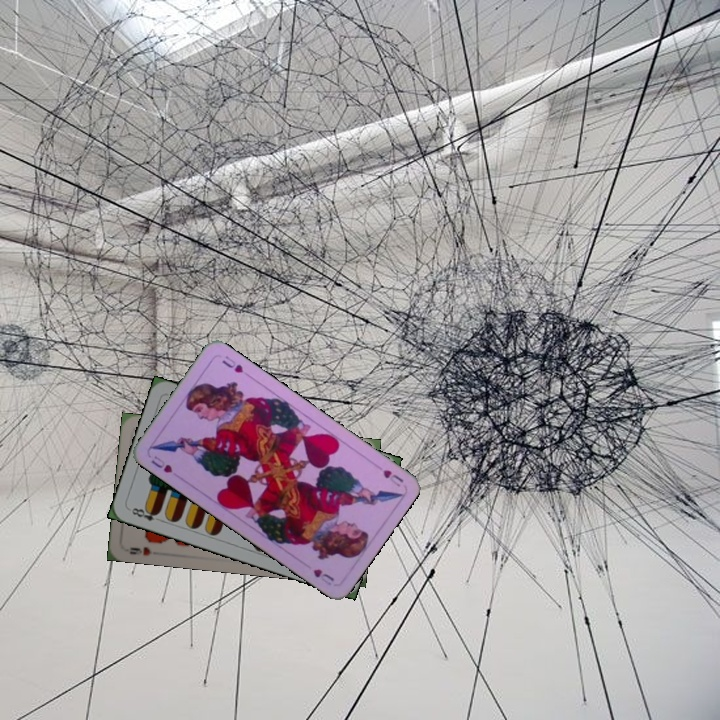E8: (128, 504, 165, 524)
H9: (126, 543, 154, 558)
HU: (147, 452, 175, 476), (379, 465, 406, 489)
